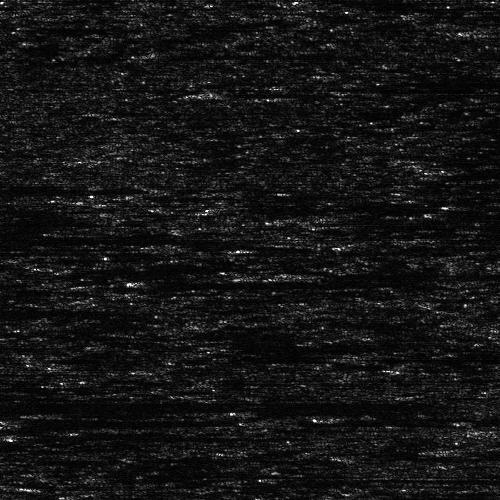object: (302, 350, 417, 363), (200, 269, 335, 280), (438, 420, 500, 439), (298, 493, 433, 500), (431, 25, 500, 38), (296, 414, 369, 421), (404, 448, 477, 455), (122, 50, 163, 59), (182, 91, 255, 96), (25, 410, 88, 415), (0, 419, 33, 428), (431, 203, 484, 208)
shadow: (0, 397, 411, 408), (267, 269, 433, 280), (360, 350, 500, 363), (56, 410, 373, 415), (12, 419, 170, 428), (0, 235, 200, 242), (143, 50, 298, 59), (0, 305, 145, 314), (332, 414, 500, 421), (366, 493, 500, 500), (440, 448, 500, 455), (468, 25, 500, 38), (219, 91, 300, 96), (457, 203, 500, 208), (0, 189, 67, 192), (0, 371, 41, 374), (311, 226, 393, 227)
